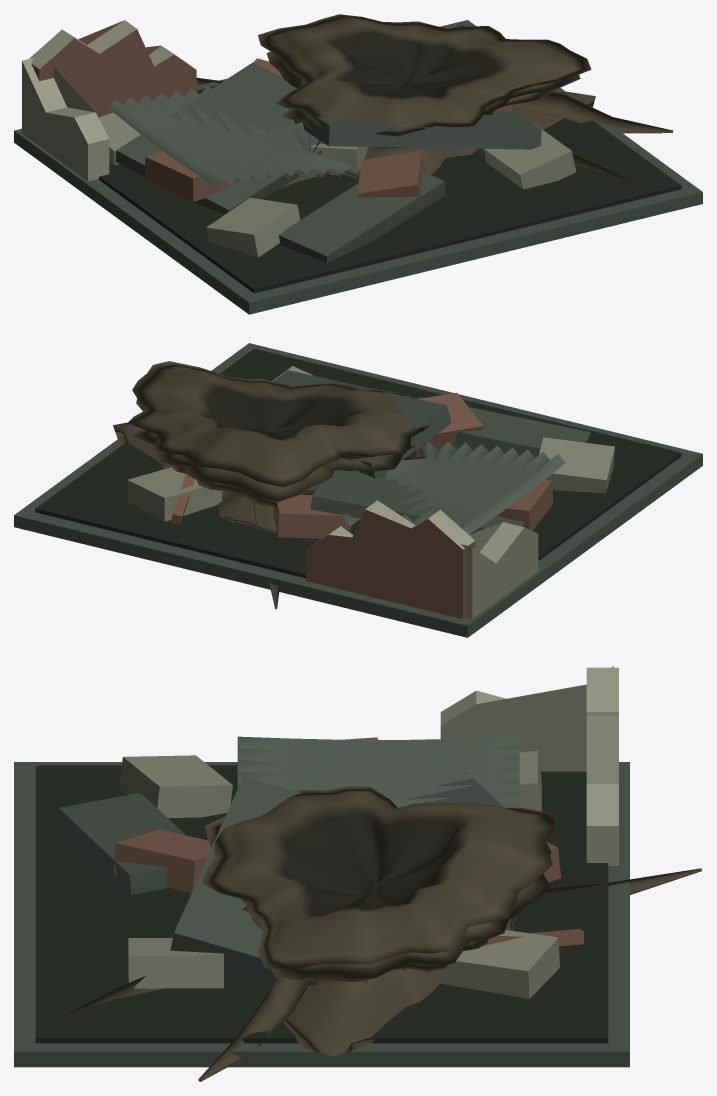
File: infected_warehouse_dead.glb
3 renders of one model, top to bottom at view 1: azimuth 30°, elevation 25°; view 2: azimuth 150°, elevation 25°; view 3: azimuth 270°, elevation 25°, orthographic. The views are drawn at different scales.
Visible parts, largest first — view 1: BrokenWarehouse, SpentInfection; view 2: BrokenWarehouse, SpentInfection; view 3: BrokenWarehouse, SpentInfection.
Part boxes in pixels (box(x1,y1,x2,y2)): BrokenWarehouse: box(14, 20, 702, 314); SpentInfection: box(196, 14, 673, 189); BrokenWarehouse: box(14, 343, 702, 637); SpentInfection: box(113, 361, 430, 609); BrokenWarehouse: box(14, 666, 629, 1067); SpentInfection: box(64, 786, 701, 1081).
Size of the model in its own units: 6.93 by 1.41 by 6.38.
